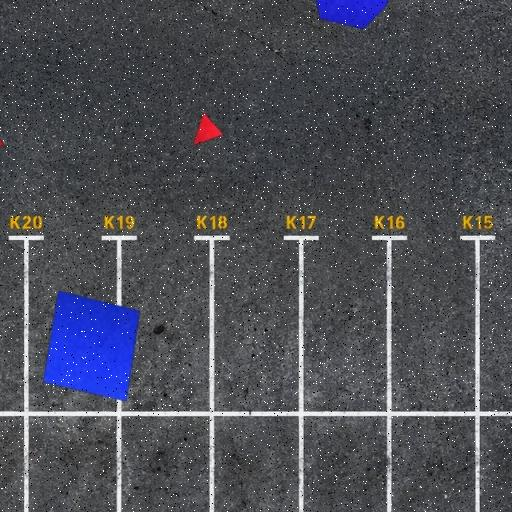BLUE_SQUARE: (42, 290, 141, 402)
